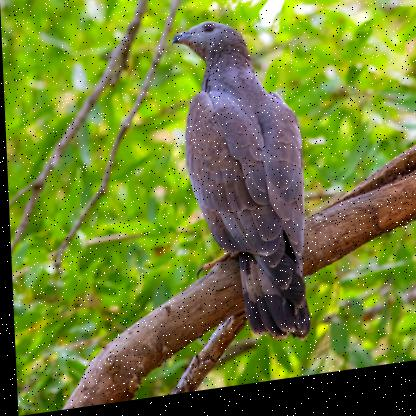Burung: (168, 13, 323, 362)
